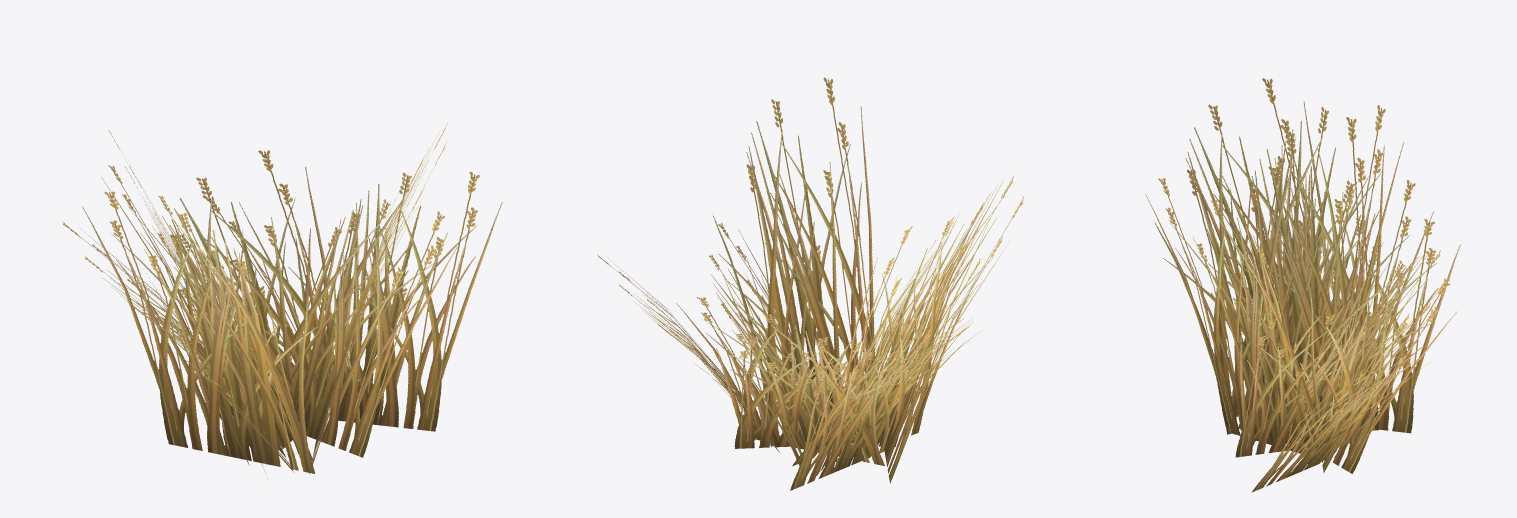
Rendered from Grass_DryGolden_C.fbx.
The picture shows the model from 3 angles, left to right: view 1: azimuth 30°, elevation 25°; view 2: azimuth 150°, elevation 25°; view 3: azimuth 270°, elevation 25°; orthographic projection. The views are drawn at different scales.
Parts seen in each view (by area): view 1: Grass_DryGolden_C_LOD0; view 2: Grass_DryGolden_C_LOD0; view 3: Grass_DryGolden_C_LOD0.
Part boxes in pixels (<box>): Grass_DryGolden_C_LOD0: <box>63,122,502,478</box>; Grass_DryGolden_C_LOD0: <box>597,77,1023,490</box>; Grass_DryGolden_C_LOD0: <box>1145,78,1460,492</box>.
Size of what is drawn, in the model's own units: 0.6652 by 0.4755 by 0.5086.
